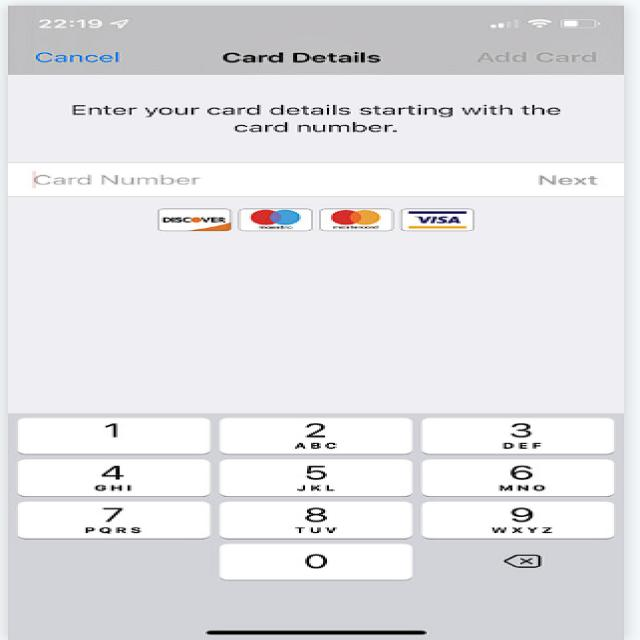input: (0, 149, 631, 204)
spacer: (18, 241, 638, 405)
text: (29, 94, 594, 141)
